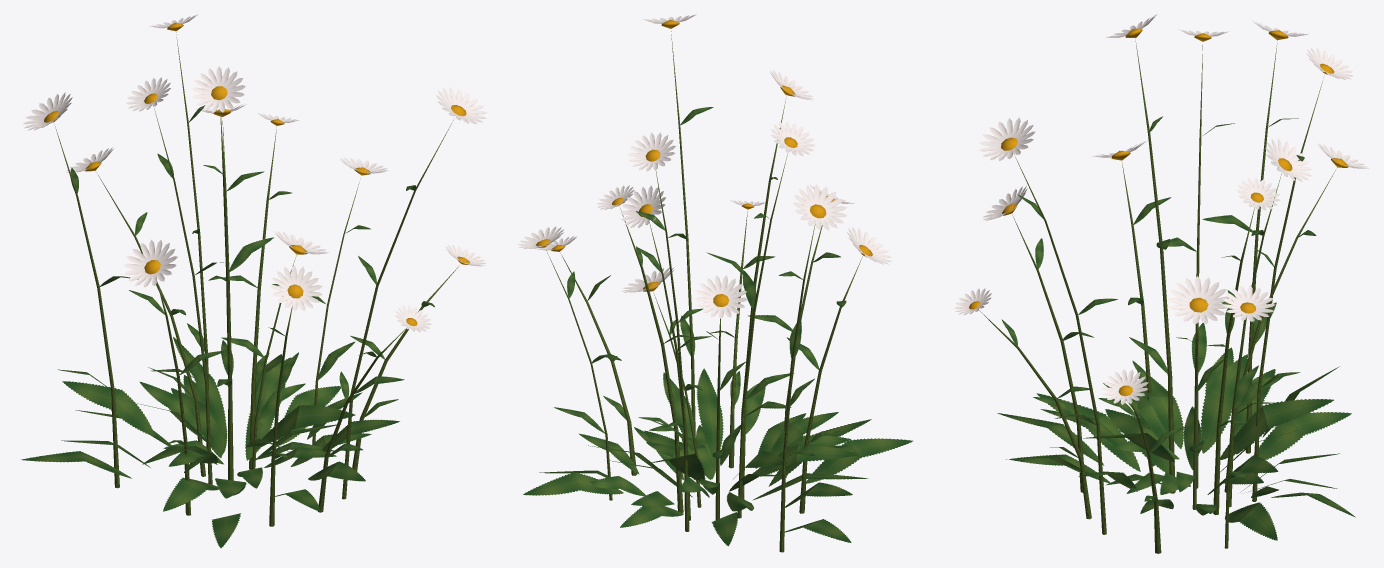
The model's file is oxeye-daisy.glb.
3 views of the same model, side by side, from view 1: azimuth 30°, elevation 25°; view 2: azimuth 150°, elevation 25°; view 3: azimuth 270°, elevation 25° (orthographic). The views are drawn at different scales.
Visible parts, largest first — view 1: Oxeye Daisy; view 2: Oxeye Daisy; view 3: Oxeye Daisy.
Boxes of the visible parts, x1,y1,x2,y2 form: Oxeye Daisy: (21, 14, 487, 548); Oxeye Daisy: (518, 14, 912, 552); Oxeye Daisy: (954, 14, 1368, 553).
Bounding box in the file's own units: 0.5192 × 0.5471 × 0.444.
4 materials, 4 textured.
